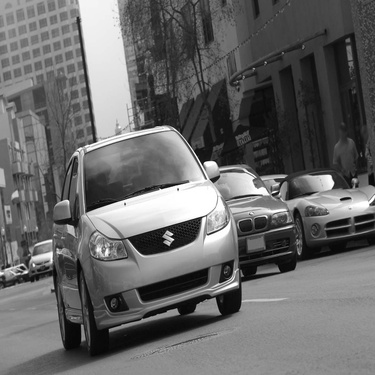car: (38, 126, 248, 361), (204, 162, 298, 277), (276, 171, 372, 260), (251, 164, 300, 203), (22, 232, 55, 285), (9, 265, 25, 285), (19, 261, 28, 279)
